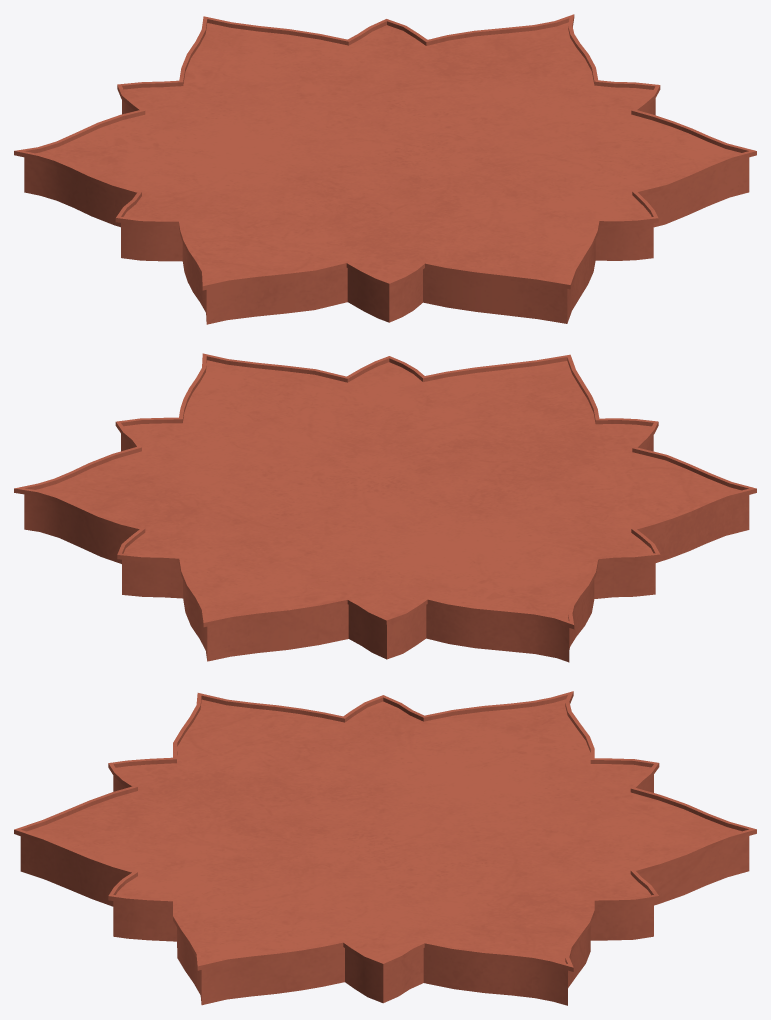
Rendered from murti base.fbx.
3 views of the same model, one above another, from view 1: azimuth 30°, elevation 25°; view 2: azimuth 150°, elevation 25°; view 3: azimuth 270°, elevation 25° (orthographic).
Parts seen in each view (by area): view 1: Vert_002; view 2: Vert_002; view 3: Vert_002.
Boxes of the visible parts, bbox=[...] form: Vert_002: bbox=[14, 14, 756, 324]; Vert_002: bbox=[14, 353, 756, 662]; Vert_002: bbox=[14, 691, 756, 1005].
Size of the model in its own units: 2649 by 188 by 3006.
